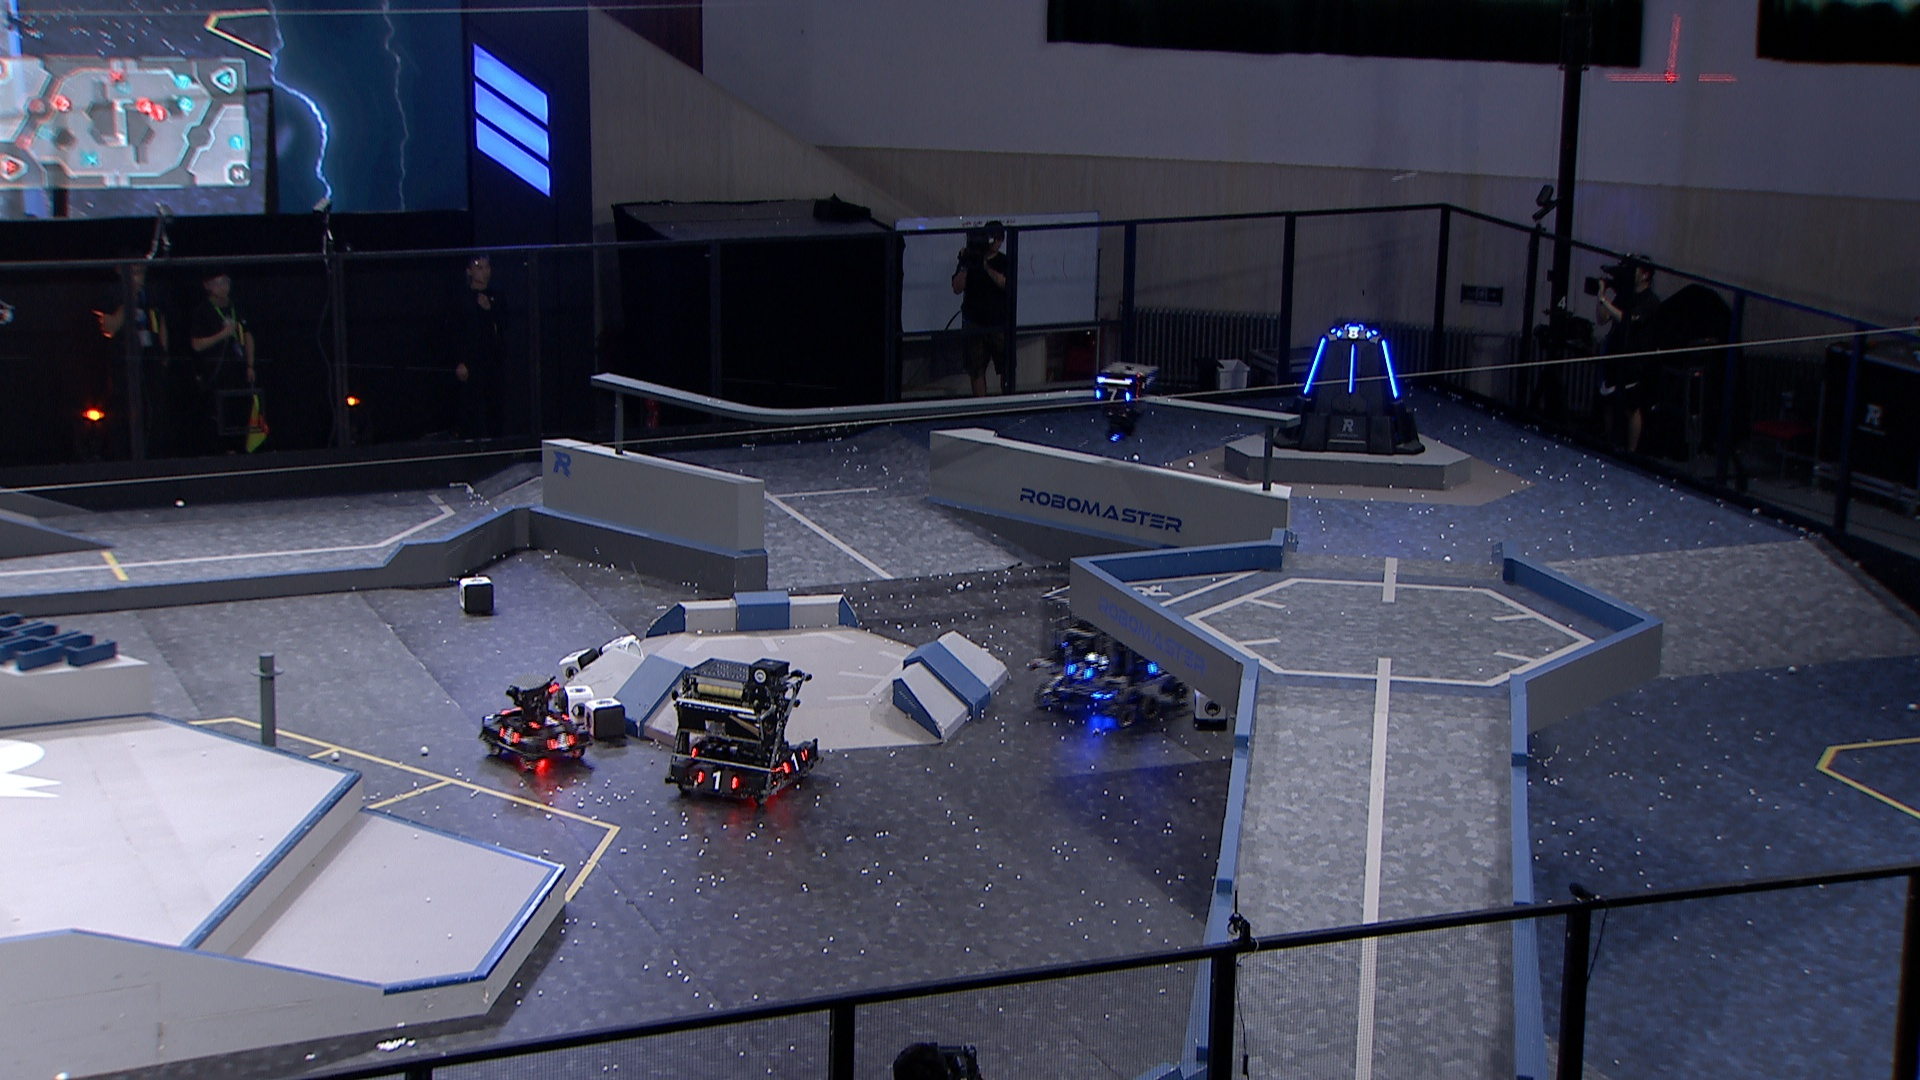armor: (1300, 335, 1325, 396), (1378, 338, 1400, 400), (695, 769, 740, 790), (1064, 659, 1096, 683), (527, 713, 571, 731), (1093, 386, 1133, 405), (1333, 324, 1373, 342), (546, 732, 578, 752), (783, 750, 807, 777), (495, 725, 524, 746), (1346, 344, 1358, 396)
base: (1267, 323, 1429, 458)
car: (1029, 574, 1189, 731), (665, 654, 820, 807), (479, 675, 595, 771)
watcher: (1091, 363, 1158, 443)
